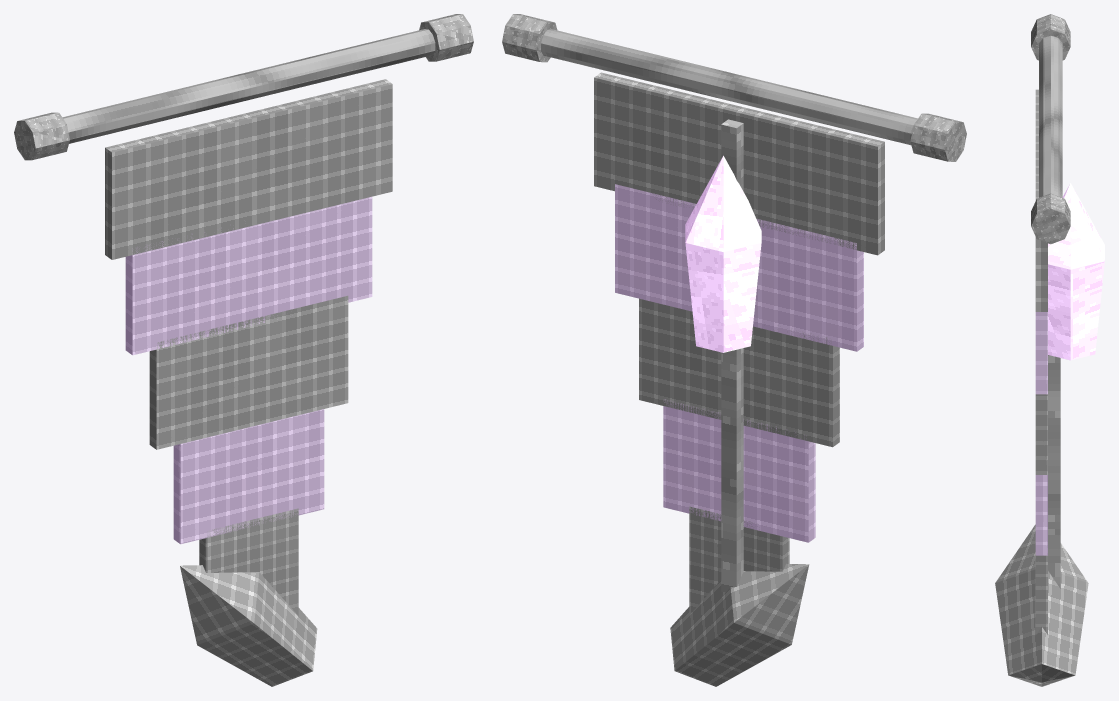
Rendered from crystal-banner-pennant-seidr.glb.
The picture shows the model from 3 angles, left to right: view 1: azimuth 30°, elevation 25°; view 2: azimuth 150°, elevation 25°; view 3: azimuth 270°, elevation 25°; orthographic projection. The views are drawn at different scales.
Visible parts, largest first — view 1: taper-0, taper-1, taper-2, taper-3, lower-point, top-rod, taper-4, left-cap, right-cap; view 2: taper-0, taper-1, taper-2, taper-3, crystal-crest, lower-point, top-rod, spine, taper-4, left-cap, right-cap; view 3: lower-point, crystal-crest, top-rod, spine, right-cap, taper-0, taper-1, left-cap, taper-2, taper-3, taper-4.
Boxes of the visible parts, x1=… form: taper-0: x1=105, y1=79, x2=392, y2=259; taper-1: x1=125, y1=196, x2=372, y2=355; taper-2: x1=149, y1=295, x2=348, y2=449; taper-3: x1=173, y1=409, x2=324, y2=544; lower-point: x1=180, y1=565, x2=317, y2=686; top-rod: x1=62, y1=29, x2=435, y2=143; taper-4: x1=199, y1=508, x2=298, y2=615; left-cap: x1=14, y1=112, x2=69, y2=160; right-cap: x1=419, y1=14, x2=473, y2=61; taper-0: x1=594, y1=72, x2=884, y2=255; taper-1: x1=615, y1=184, x2=863, y2=351; taper-2: x1=639, y1=298, x2=839, y2=447; taper-3: x1=663, y1=399, x2=815, y2=542; crystal-crest: x1=685, y1=155, x2=761, y2=352; lower-point: x1=670, y1=563, x2=809, y2=686; top-rod: x1=541, y1=29, x2=917, y2=145; spine: x1=721, y1=119, x2=743, y2=596; taper-4: x1=689, y1=506, x2=789, y2=614; left-cap: x1=910, y1=113, x2=966, y2=161; right-cap: x1=502, y1=14, x2=557, y2=62; lower-point: x1=995, y1=524, x2=1088, y2=686; crystal-crest: x1=1048, y1=183, x2=1104, y2=360; top-rod: x1=1039, y1=35, x2=1062, y2=197; spine: x1=1048, y1=355, x2=1060, y2=588; right-cap: x1=1031, y1=193, x2=1070, y2=244; taper-0: x1=1035, y1=89, x2=1047, y2=311; taper-1: x1=1035, y1=312, x2=1047, y2=394; left-cap: x1=1031, y1=14, x2=1070, y2=60; taper-2: x1=1035, y1=394, x2=1047, y2=474; taper-3: x1=1035, y1=475, x2=1047, y2=555; taper-4: x1=1035, y1=555, x2=1047, y2=634.
Bounding box in the file's own units: 1.28 × 1.73 × 0.3053.
Materials: 5 (5 with a texture image).
